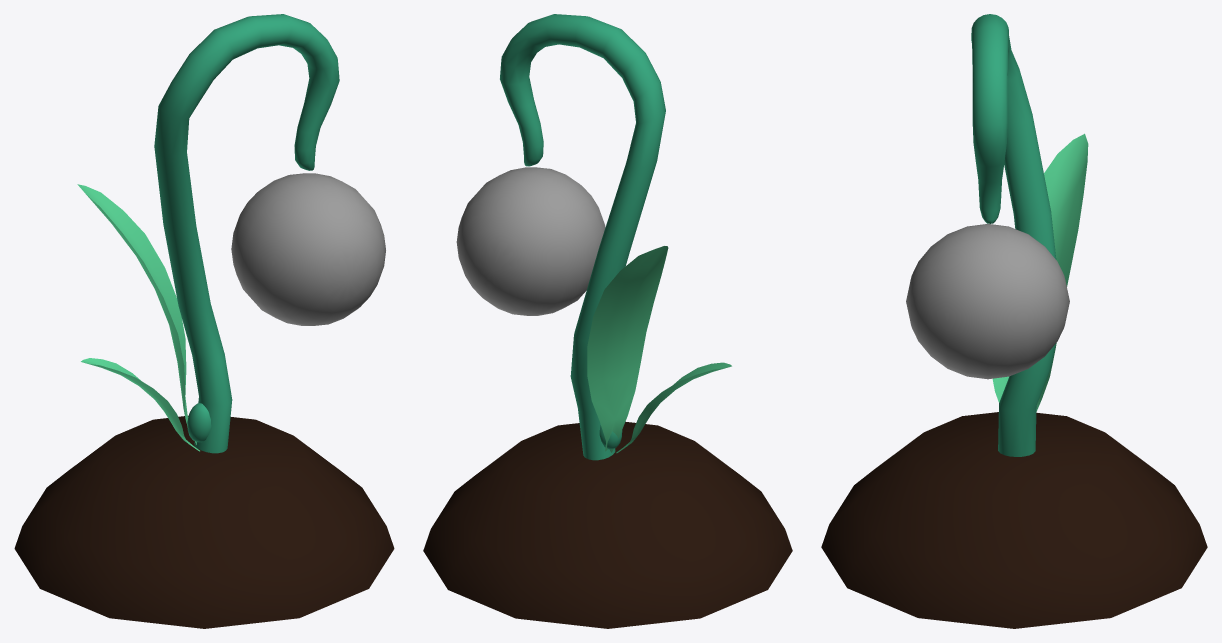
Rendered from stufe3.FBX.
The picture shows the model from 3 angles, left to right: view 1: azimuth 30°, elevation 25°; view 2: azimuth 150°, elevation 25°; view 3: azimuth 270°, elevation 25°; orthographic projection. The views are drawn at different scales.
Parts seen in each view (by area): view 1: erde, 3, dream, blatt2, blatt1; view 2: erde, 3, dream, blatt2, blatt1; view 3: erde, dream, 3, blatt2.
Part boxes in pixels (x1,y1,x2,y2): erde: (14,415,394,628); 3: (154,14,339,453); dream: (231,173,385,325); blatt2: (77,184,196,444); blatt1: (81,358,199,451); erde: (423,421,792,628); 3: (500,14,665,460); dream: (456,167,605,315); blatt2: (587,246,668,452); blatt1: (616,362,731,453); erde: (821,412,1207,628); dream: (906,224,1069,379); 3: (971,14,1056,456); blatt2: (1009,133,1088,411).
Size of the model in its own units: 0.7405 by 1.14 by 0.7405.
